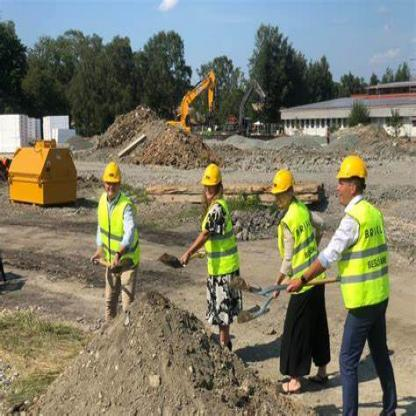person: (327, 137, 412, 415), (264, 146, 334, 406), (180, 135, 251, 378), (84, 132, 148, 334)
